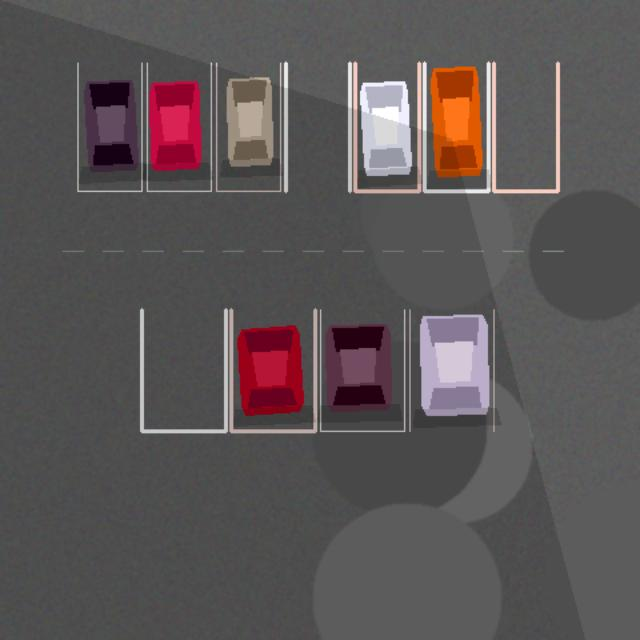space-empty: (141, 309, 225, 431), (285, 63, 349, 191), (493, 63, 557, 191)
space-occupied: (231, 309, 315, 431), (320, 309, 404, 431), (409, 309, 493, 431), (77, 63, 141, 191), (147, 63, 211, 191), (216, 63, 280, 191), (355, 63, 419, 191), (424, 63, 488, 191)
